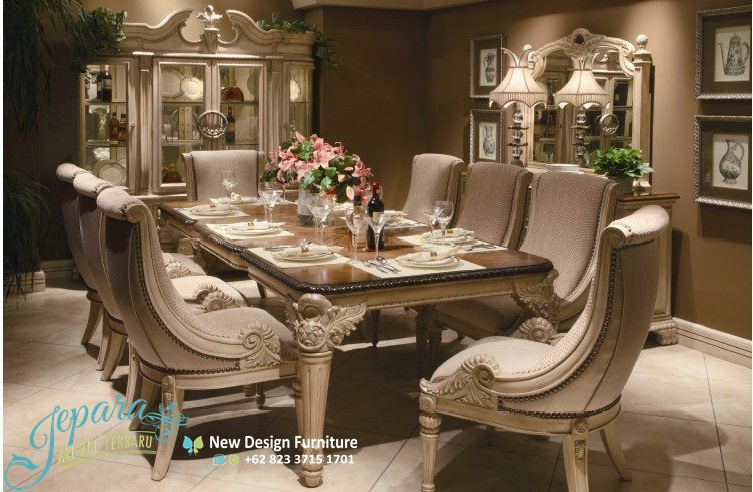Carving Chair: (40, 162, 270, 455), (443, 224, 675, 492)
